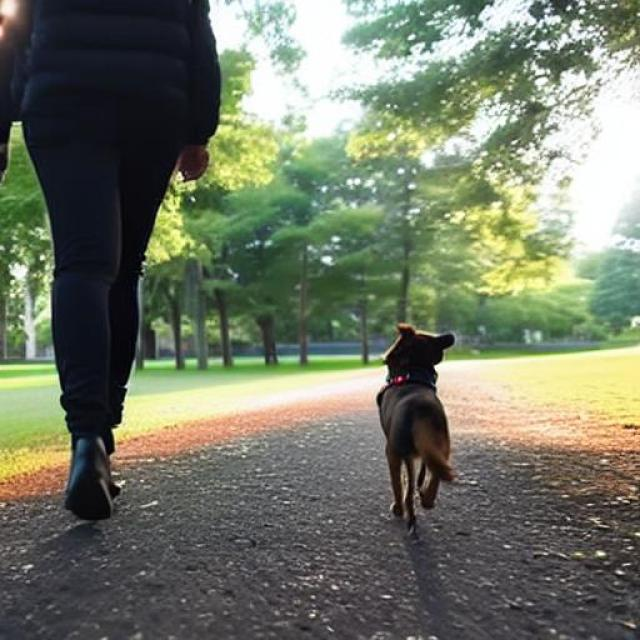Unleashed_Dog: (38, 77, 456, 517)
